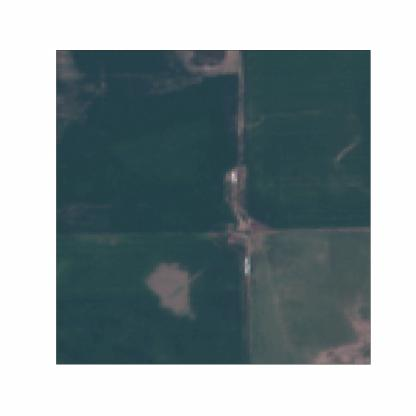silobolsa: (242, 256, 252, 276)
